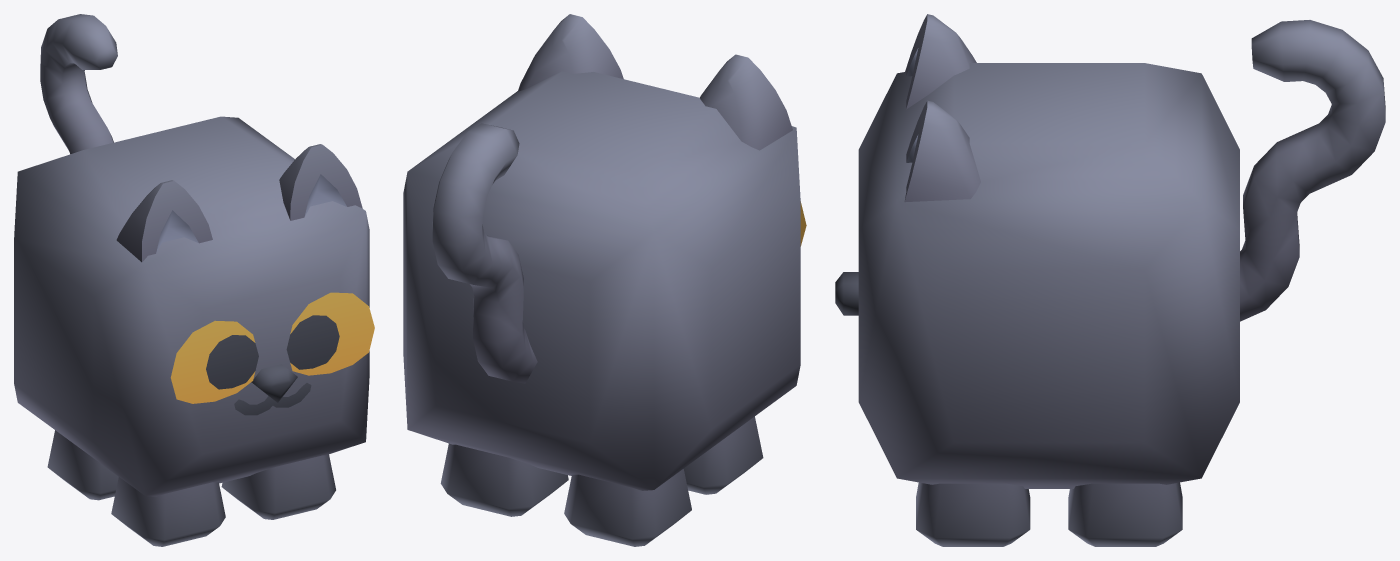
Rendered from queen.glb.
3 views of the same model, side by side, from view 1: azimuth 30°, elevation 25°; view 2: azimuth 150°, elevation 25°; view 3: azimuth 270°, elevation 25° (orthographic). The views are drawn at different scales.
Parts seen in each view (by area): view 1: body, tail, leg-front-right, leg-front-left, leg-back-right, Group; view 2: body, tail, leg-back-right, leg-back-left, leg-front-right; view 3: body, tail, leg-back-left, leg-front-left.
Boxes of the visible parts, left/top/right/bottom form: body: left=14, top=116, right=374, bottom=496; tail: left=40, top=14, right=117, bottom=154; leg-front-right: left=111, top=477, right=225, bottom=546; leg-front-left: left=221, top=454, right=335, bottom=519; leg-back-right: left=47, top=430, right=118, bottom=500; Group: left=234, top=383, right=311, bottom=415; body: left=403, top=14, right=806, bottom=490; tail: left=432, top=123, right=537, bottom=383; leg-back-right: left=564, top=469, right=691, bottom=546; leg-back-left: left=440, top=443, right=568, bottom=516; leg-front-right: left=683, top=416, right=763, bottom=494; body: left=835, top=14, right=1239, bottom=488; tail: left=1240, top=20, right=1385, bottom=321; leg-back-left: left=1068, top=482, right=1182, bottom=546; leg-front-left: left=916, top=482, right=1030, bottom=546.
Size of the model in its own units: 1.25 by 1.71 by 1.81.
1 material, 1 textured.
